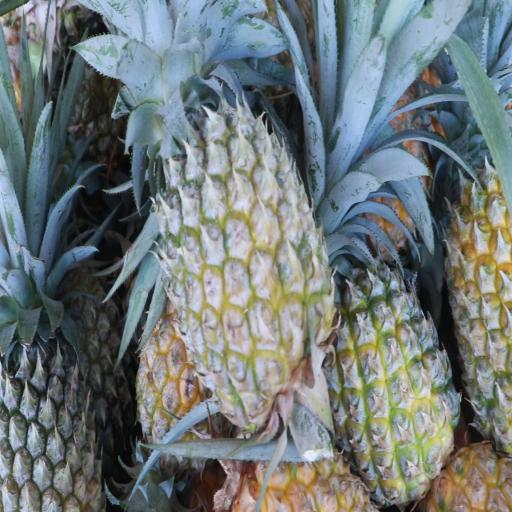------------------------------: (170, 104, 326, 426)
Pineapple - v8 v1: (326, 264, 455, 500), (433, 171, 512, 442)
